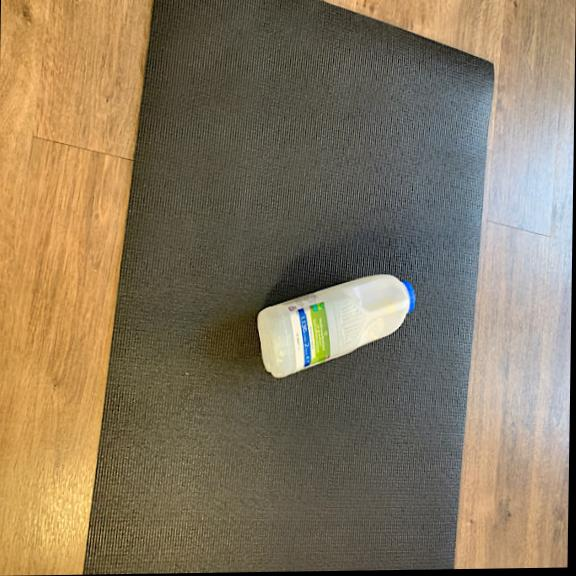Plastik: (249, 268, 416, 390)
